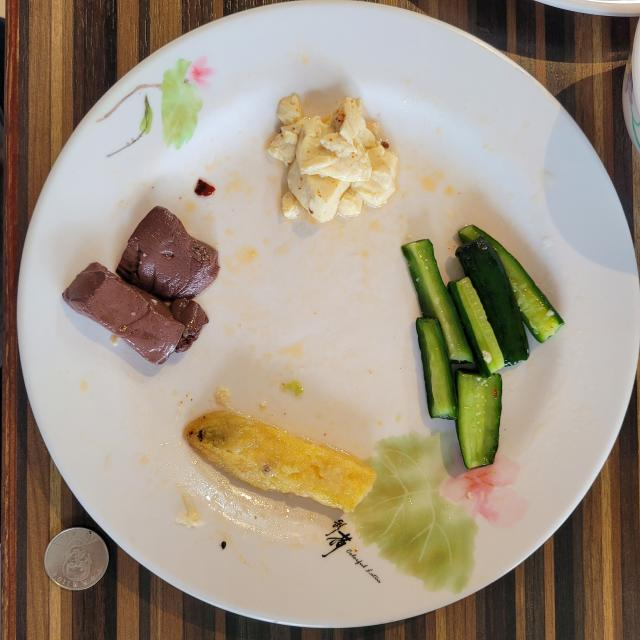coin: (44, 528, 109, 590)
cucumber: (401, 225, 564, 468)
pig blood curd: (62, 206, 219, 364)
